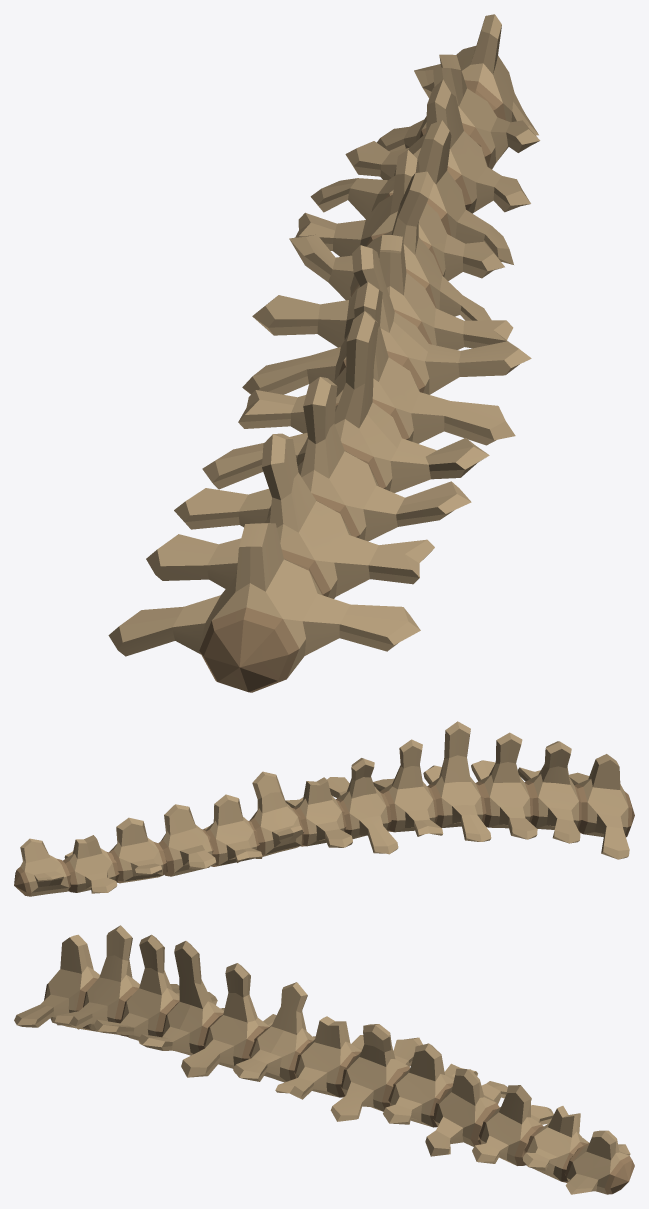
File: guzhu.FBX
3 renders of one model, top to bottom at view 1: azimuth 30°, elevation 25°; view 2: azimuth 150°, elevation 25°; view 3: azimuth 270°, elevation 25°, orthographic. The views are drawn at different scales.
Parts seen in each view (by area): view 1: SM_Env_Bone_Spine_01_Dungeon_Material_01_0; view 2: SM_Env_Bone_Spine_01_Dungeon_Material_01_0; view 3: SM_Env_Bone_Spine_01_Dungeon_Material_01_0.
Boxes of the visible parts, x1,y1,x2,y2 form: SM_Env_Bone_Spine_01_Dungeon_Material_01_0: [108, 14, 540, 692]; SM_Env_Bone_Spine_01_Dungeon_Material_01_0: [14, 721, 634, 896]; SM_Env_Bone_Spine_01_Dungeon_Material_01_0: [14, 925, 634, 1194].
Bounding box in the file's own units: 60.75 × 18.27 × 69.97.
